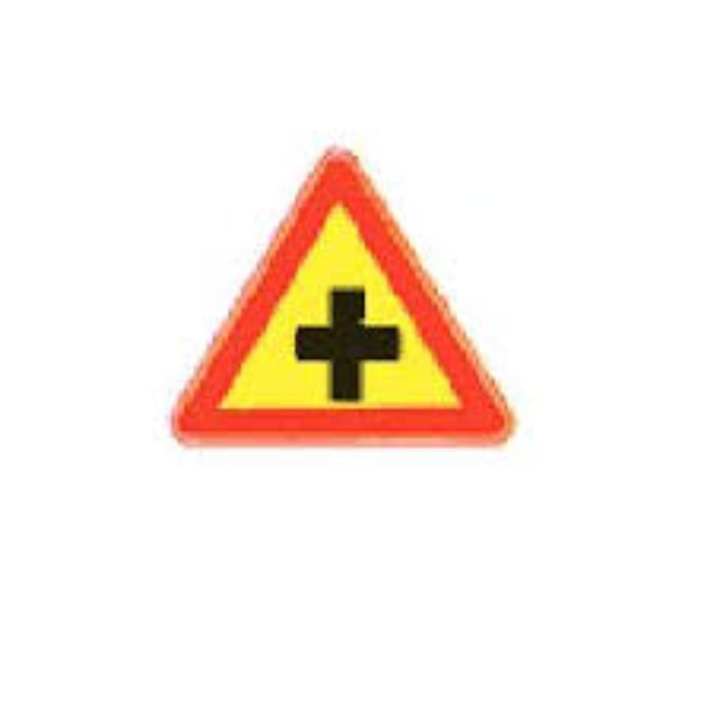inter: (290, 277, 403, 407)
